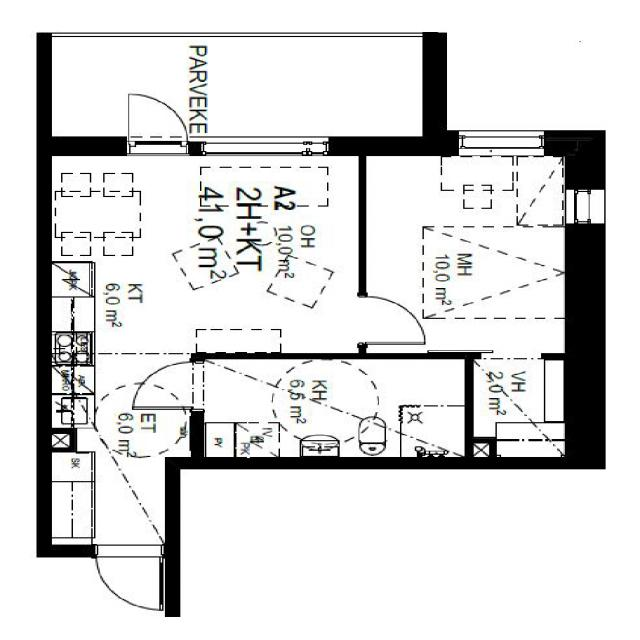door: (95, 544, 161, 608), (128, 89, 188, 156), (134, 362, 204, 408), (358, 297, 425, 344)
